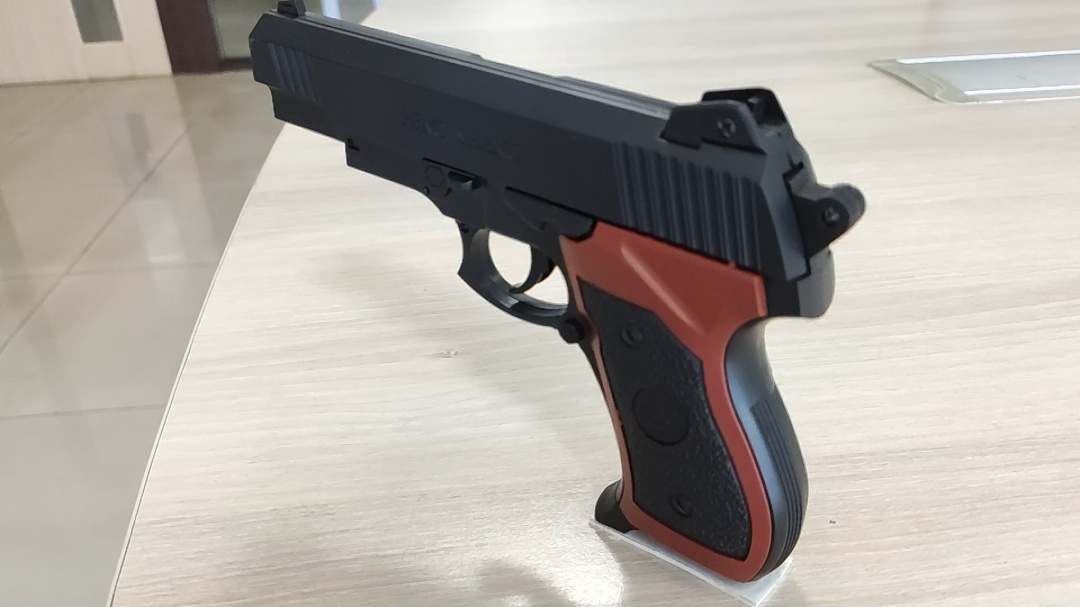gun: (248, 1, 866, 583)
